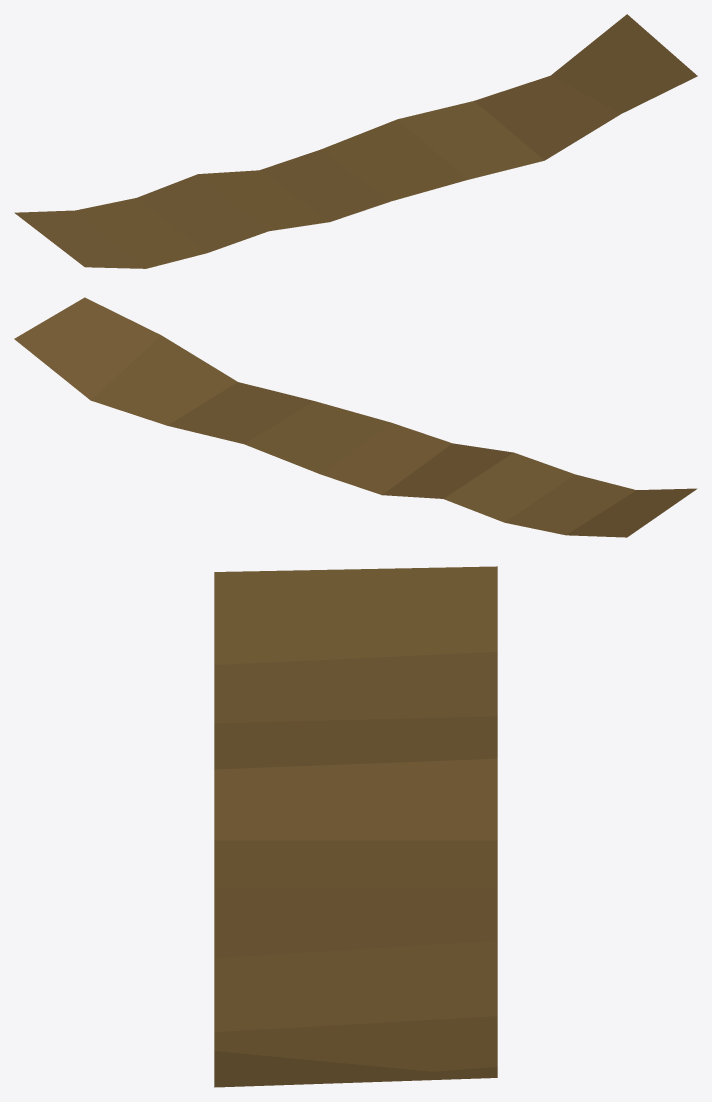
Rendered from SM_stream.fbx.
3 views of the same model, one above another, from view 1: azimuth 30°, elevation 25°; view 2: azimuth 150°, elevation 25°; view 3: azimuth 270°, elevation 25° (orthographic). The views are drawn at different scales.
Visible parts, largest first — view 1: Plane.003; view 2: Plane.003; view 3: Plane.003.
Boxes of the visible parts, x1=… form: Plane.003: x1=14, y1=14, x2=697, y2=268; Plane.003: x1=14, y1=297, x2=697, y2=537; Plane.003: x1=214, y1=566, x2=497, y2=1087.
Bounding box in the file's own units: 640 × 3200 × 341.
